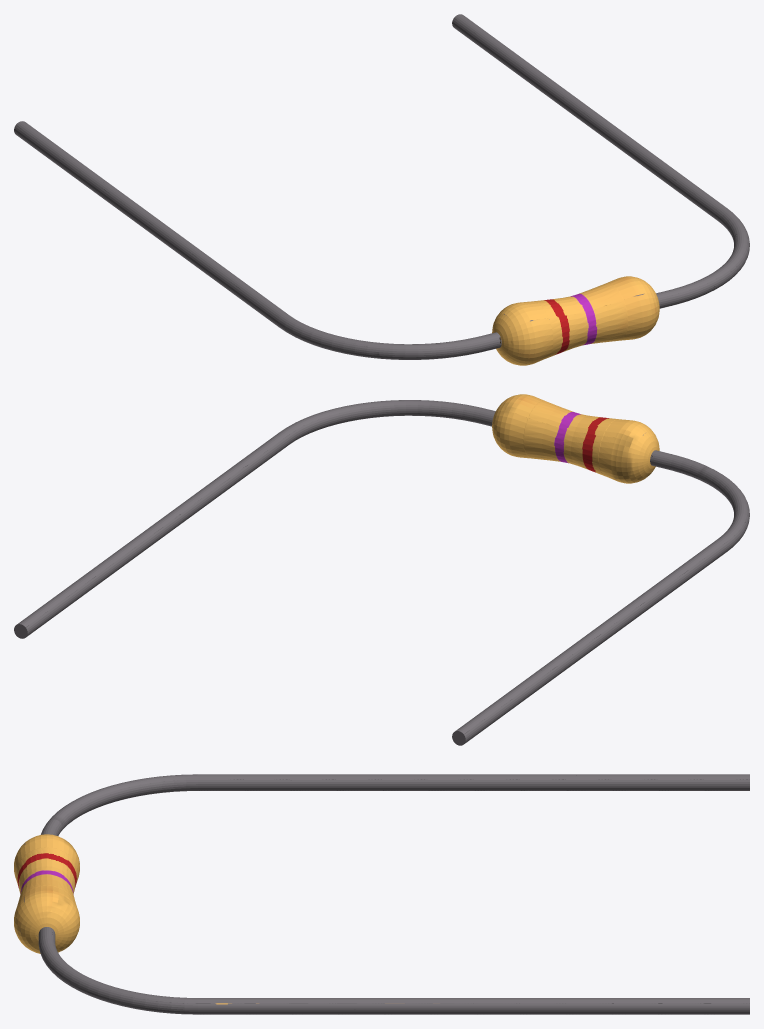
Rendered from ResistorWithColorblend.fbx.
3 views of the same model, one above another, from view 1: azimuth 30°, elevation 25°; view 2: azimuth 150°, elevation 25°; view 3: azimuth 270°, elevation 25° (orthographic). The views are drawn at different scales.
Visible parts, largest first — view 1: Resistoractual; view 2: Resistoractual; view 3: Resistoractual.
Part boxes in pixels (x1,y1,x2,y2): Resistoractual: (14, 14, 749, 365); Resistoractual: (14, 394, 749, 745); Resistoractual: (14, 774, 749, 1014).
Size of the model in its own units: 1.83 by 0.2225 by 2.47.
Materials: 1 (1 with a texture image).
